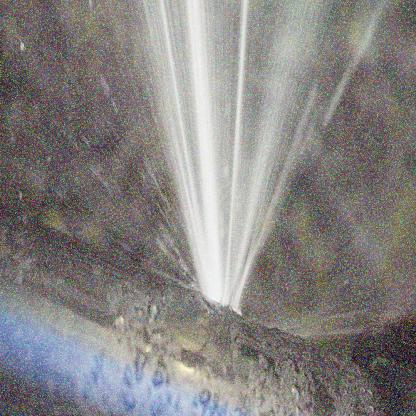burst: (171, 240, 269, 350)
